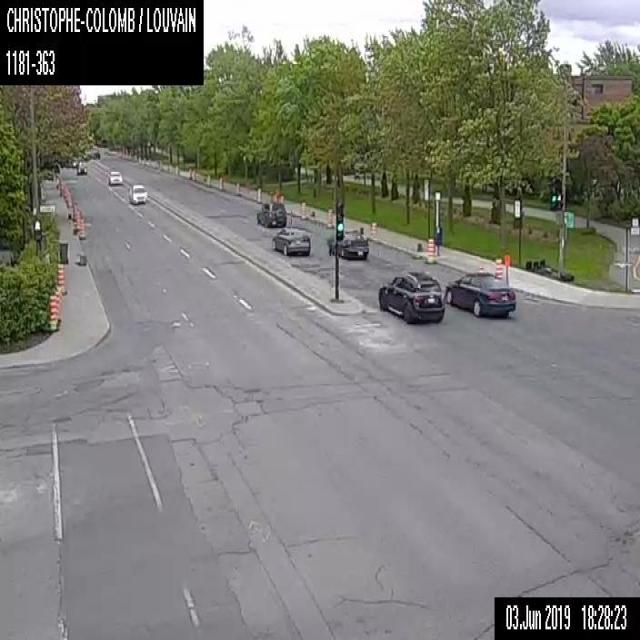construction: (49, 294, 58, 331), (57, 262, 66, 294), (492, 254, 504, 278), (426, 236, 436, 260), (54, 290, 60, 326), (504, 253, 511, 283), (79, 215, 85, 239), (57, 290, 61, 322), (72, 201, 78, 221), (326, 206, 332, 226), (75, 209, 80, 231), (371, 220, 376, 240), (300, 201, 305, 219), (67, 192, 72, 206), (218, 176, 223, 188), (257, 187, 261, 201), (206, 173, 210, 186), (188, 167, 192, 179), (174, 164, 178, 175), (192, 169, 196, 180), (236, 182, 239, 195), (280, 194, 283, 202)
vehicle: (378, 270, 443, 323), (444, 269, 516, 316), (327, 227, 368, 259), (272, 225, 310, 254), (256, 201, 286, 226), (128, 182, 146, 202), (108, 170, 122, 184), (76, 161, 88, 173)
